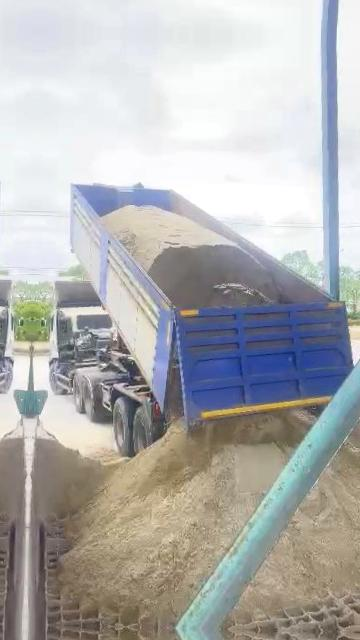sand: (60, 351, 329, 626), (233, 414, 360, 621), (102, 206, 283, 308), (30, 434, 126, 519)
